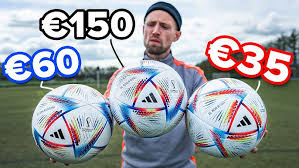football ball: (184, 77, 271, 159), (105, 61, 189, 140), (31, 85, 114, 162)
